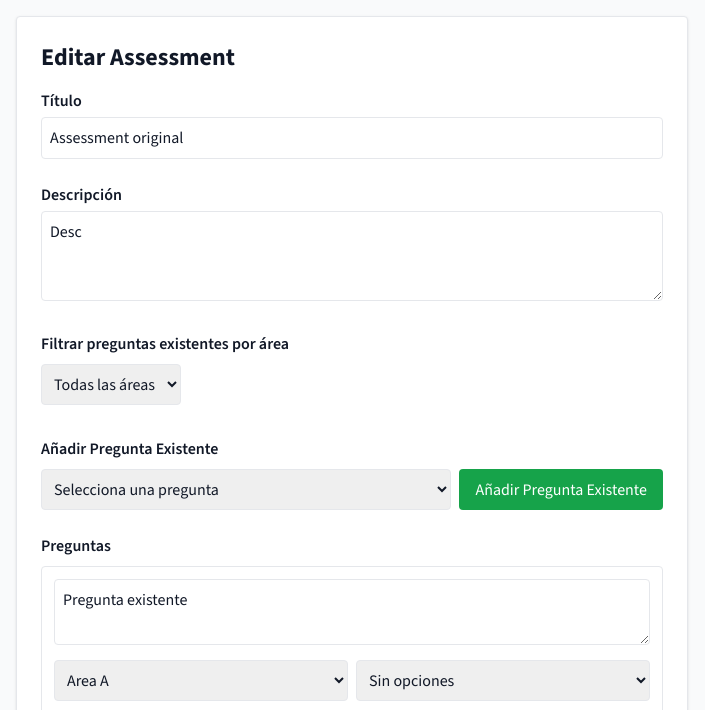
EditAssessment page › shows duplicate warning when adding an existing question twice
This screenshot has width=705, height=710.
Check: the heading "Editar Assessment" is shown, box [41, 41, 235, 73]
Select "Pregunta existente" in the 2nd dropdown showing "Selecciona una pregunta": (246, 490) [41, 469, 451, 510]
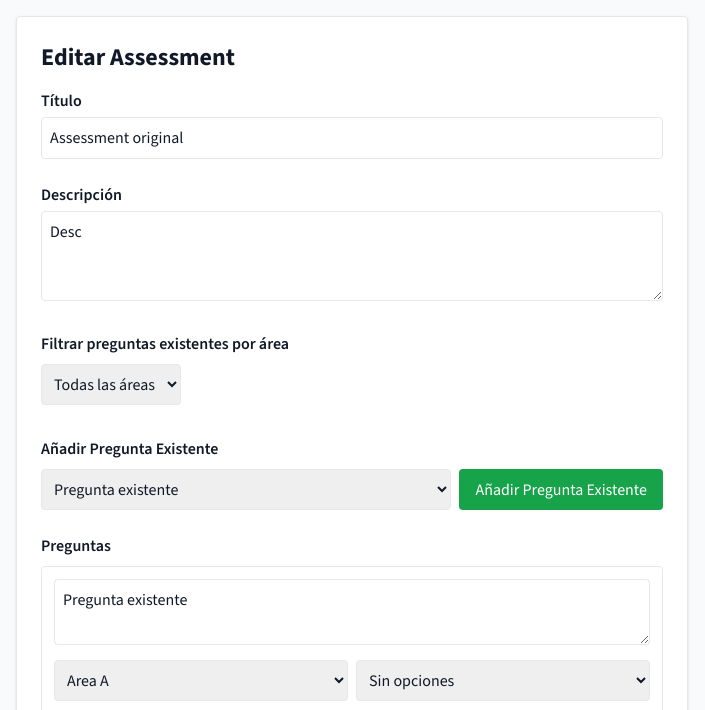
Click the button "Añadir Pregunta Existente": (561, 490) [459, 469, 663, 510]
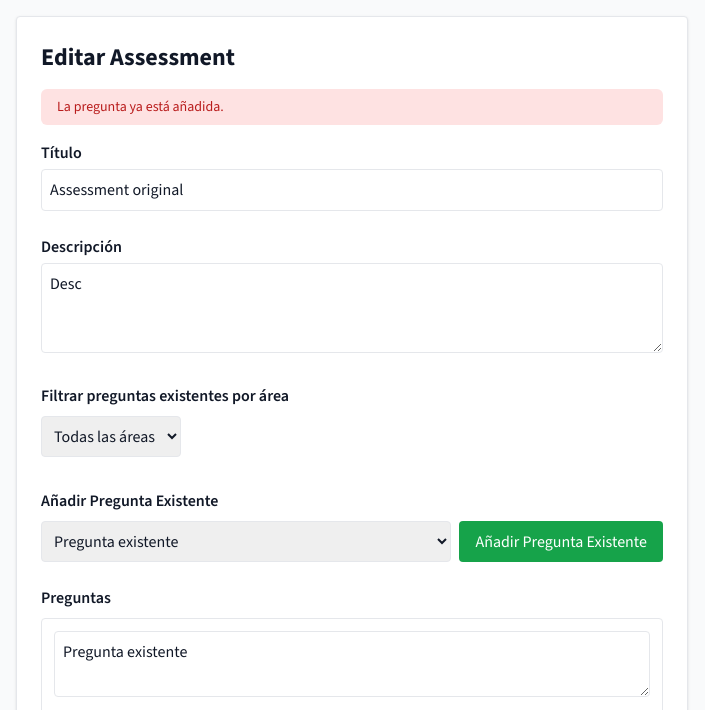
Check: the text "La pregunta ya está añadida." is shown, box [41, 89, 663, 125]
